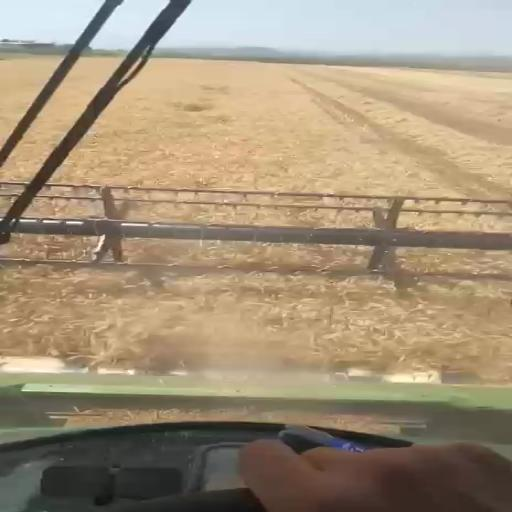bugday: (1, 55, 512, 390)
